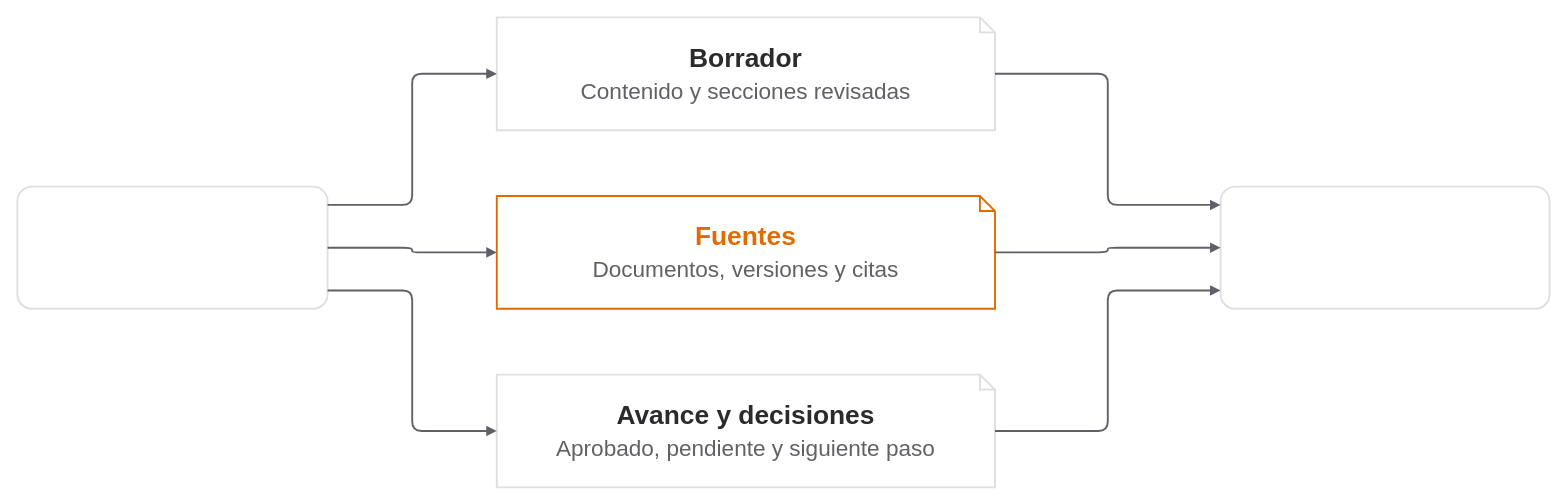
Image size: 1566x504. Some labels were removed from this diagram. The shapes that lost their labels are listed below. From the top down, each one's box as (x1, y1, x2, y2) in pixels, then its label:
(16, 185, 328, 309): Sesión 1 Revisar y guardar avances
(1219, 185, 1550, 309): Sesión 2 Leer, verificar y continuar
